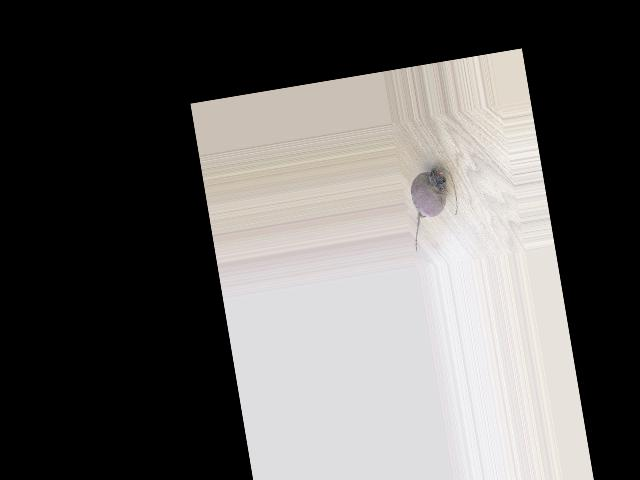beet: (403, 165, 464, 252)
